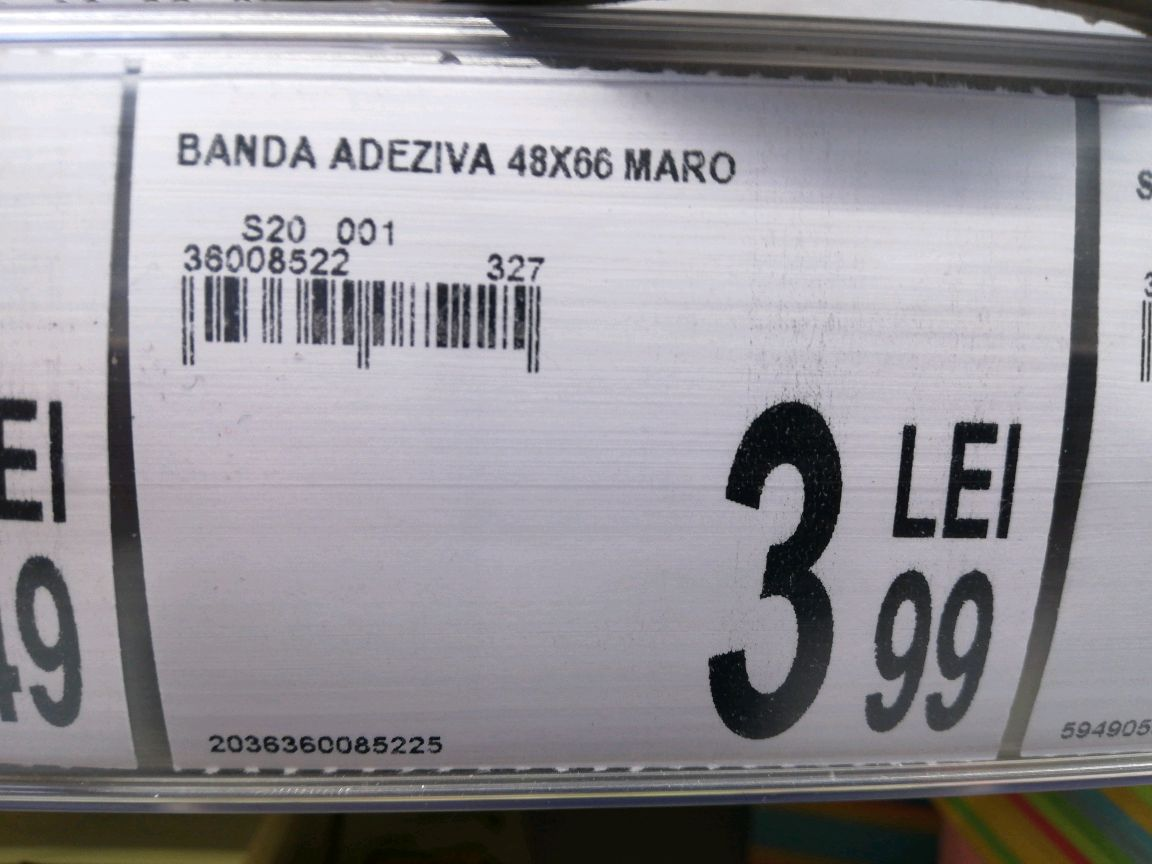price_bani: (859, 562, 1003, 742)
price_lei: (692, 392, 855, 750)
price_tag: (125, 38, 1053, 789)
product_id: (199, 724, 457, 764)
product_name: (160, 124, 754, 195)
